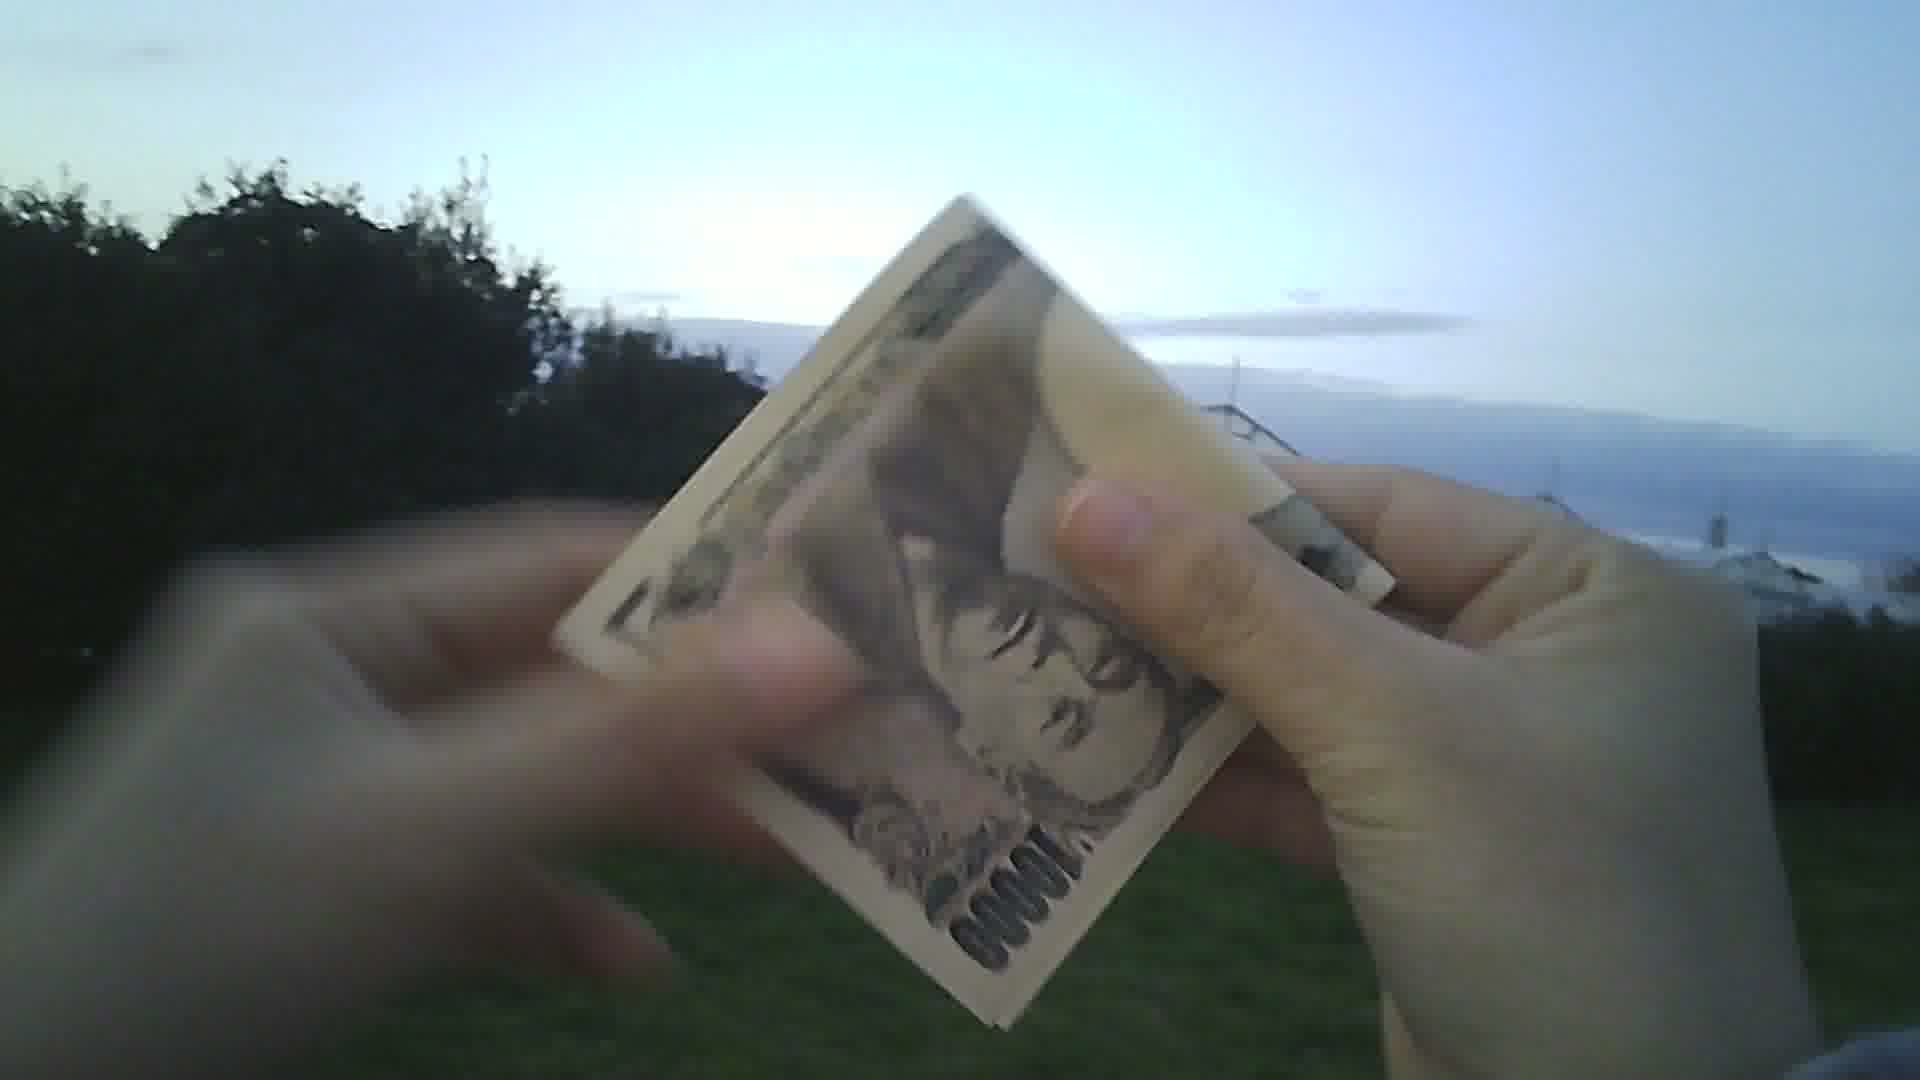10,000 Yen: (564, 170, 1391, 1033)
